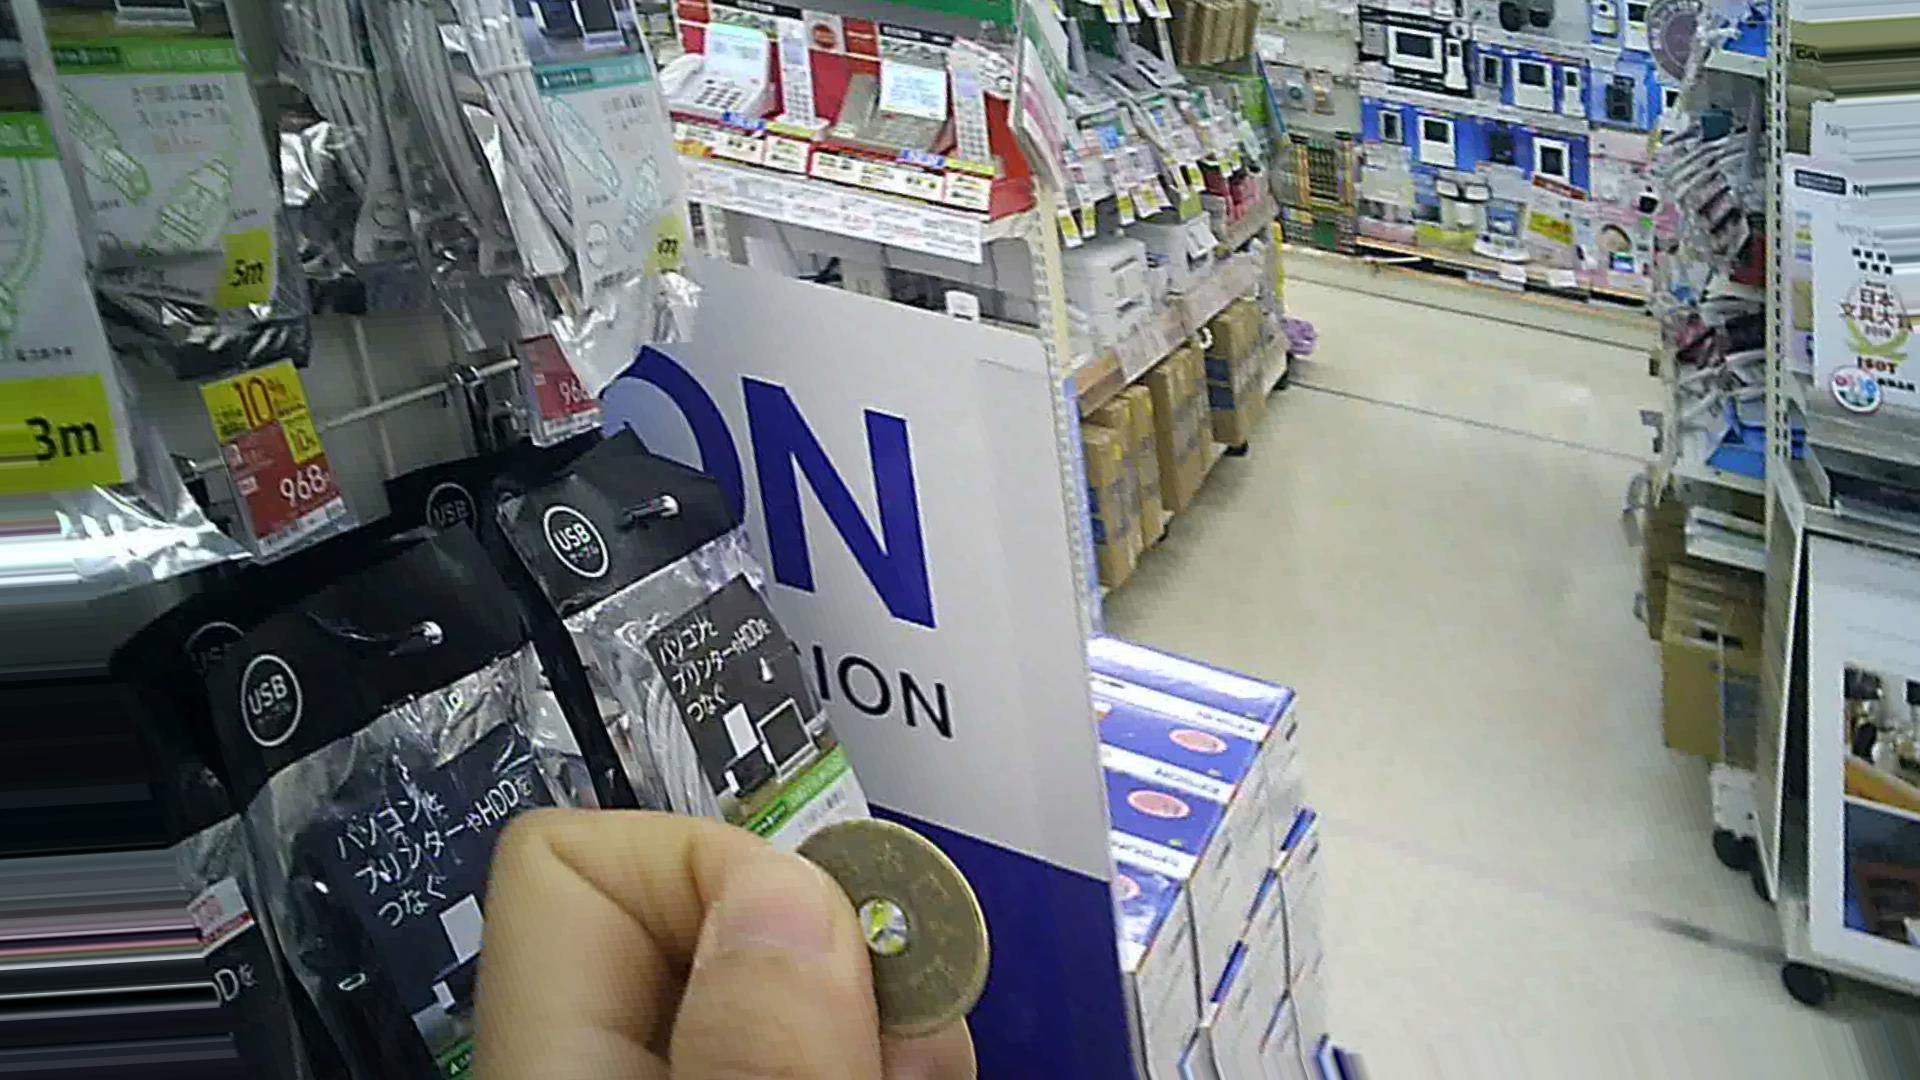5 Yen: (774, 807, 1006, 1050)
